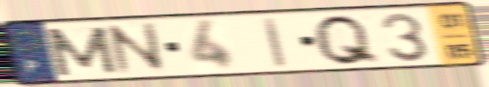3: (377, 10, 433, 63)
4: (187, 16, 239, 74)
I: (260, 15, 290, 70)
M: (41, 24, 121, 78)
N: (102, 20, 172, 78)
Q: (310, 12, 384, 67)
